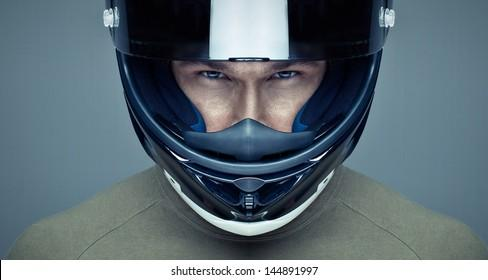helmet: (87, 1, 447, 242)
